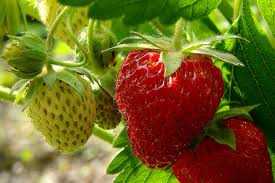ripe: (117, 42, 224, 171), (167, 110, 273, 182)
unripe: (24, 70, 96, 156), (73, 27, 116, 71), (3, 35, 44, 79), (86, 85, 122, 134), (42, 16, 89, 53)
